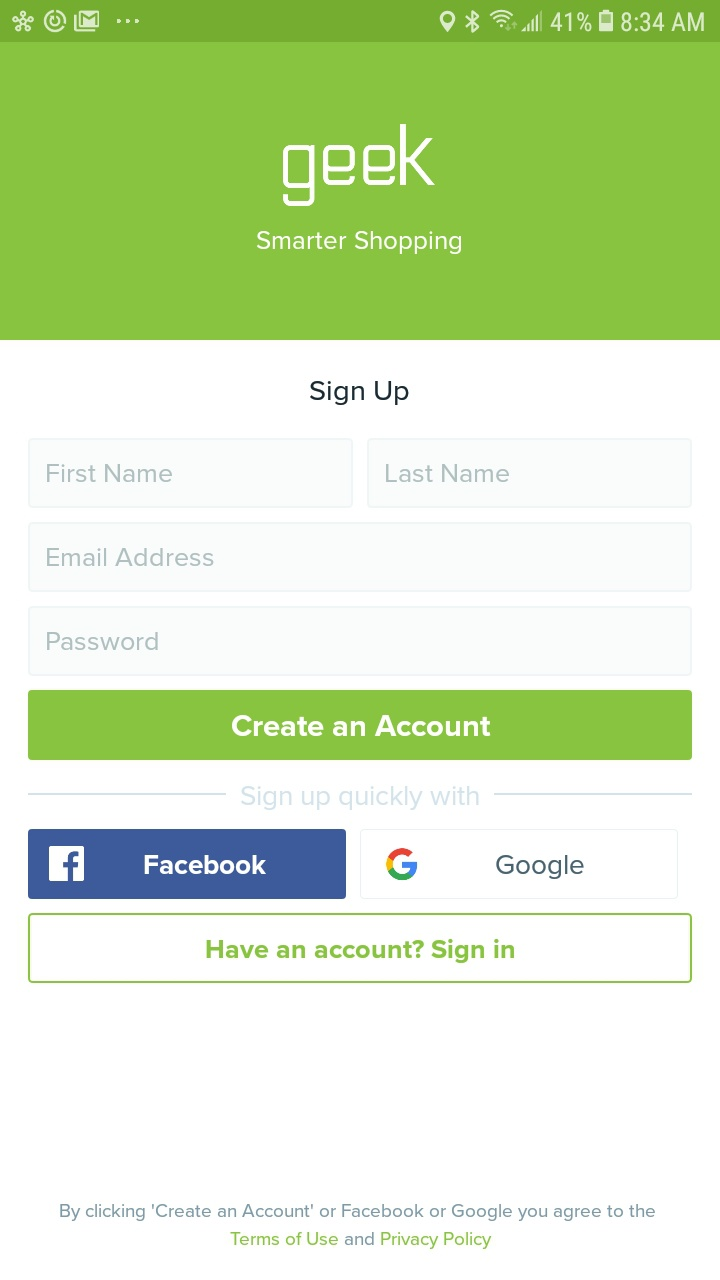EditText: (28, 606, 692, 677), (29, 522, 693, 593), (28, 438, 354, 509), (366, 438, 692, 509)
Text: (61, 1203, 656, 1250), (283, 125, 436, 208), (242, 785, 480, 811), (256, 231, 462, 256), (47, 547, 215, 567), (385, 464, 510, 484), (310, 381, 410, 406), (47, 464, 173, 483), (47, 632, 160, 651)
TextButton: (28, 913, 692, 984), (28, 690, 692, 761), (28, 829, 347, 900), (360, 830, 678, 900)
UpperTaskBar: (1, 1, 720, 43)
